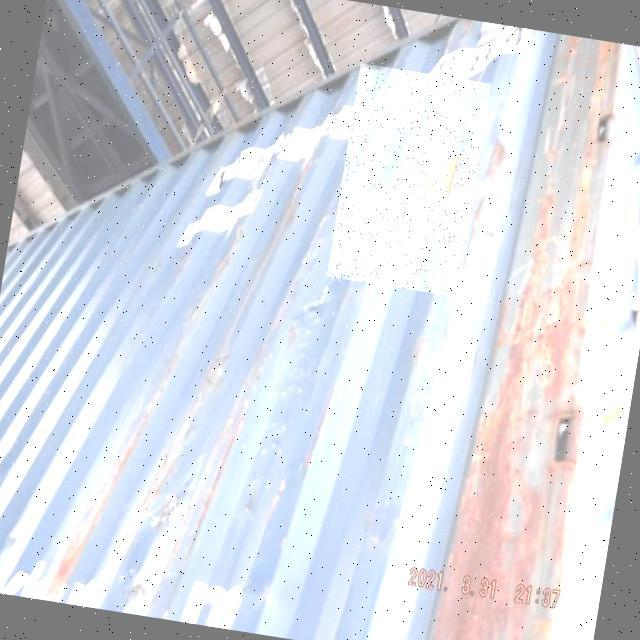Minor-Dent: (327, 63, 491, 297), (120, 440, 208, 622)
